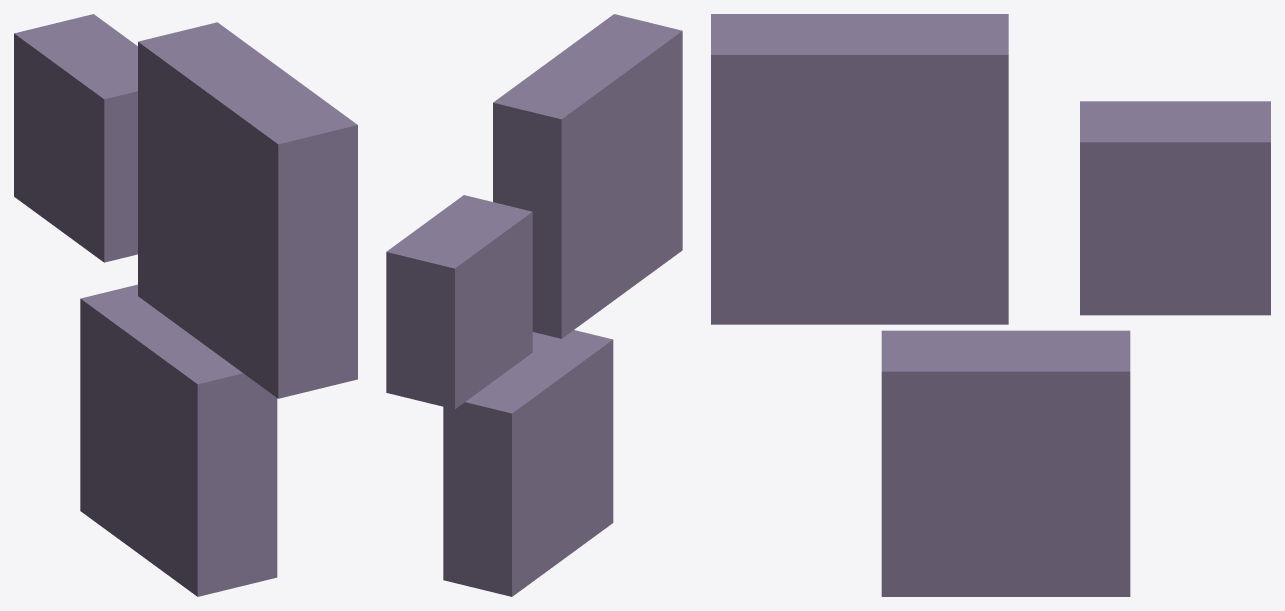
Rendered from Side Rocks 2.glb.
3 renders of one model, left to right at view 1: azimuth 30°, elevation 25°; view 2: azimuth 150°, elevation 25°; view 3: azimuth 270°, elevation 25°, orthographic. The views are drawn at different scales.
Parts seen in each view (by area): view 1: Cube.022, Cube.024, Cube.023; view 2: Cube.022, Cube.024, Cube.023; view 3: Cube.022, Cube.024, Cube.023.
Part boxes in pixels (left/top/right/bottom): Cube.022: left=138, top=22, right=357, bottom=398; Cube.024: left=80, top=284, right=277, bottom=596; Cube.023: left=14, top=14, right=137, bottom=262; Cube.022: left=493, top=14, right=682, bottom=338; Cube.024: left=443, top=330, right=613, bottom=596; Cube.023: left=386, top=195, right=532, bottom=409; Cube.022: left=711, top=14, right=1008, bottom=324; Cube.024: left=881, top=330, right=1130, bottom=596; Cube.023: left=1080, top=101, right=1270, bottom=315.
Size of the model in its own units: 0.1887 by 1.16 by 1.09.
